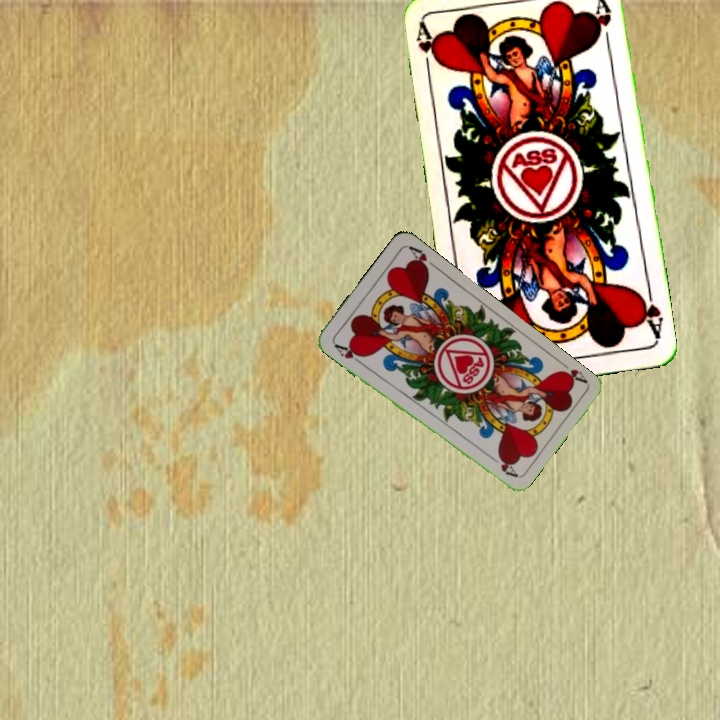HA: (411, 20, 442, 80), (634, 282, 665, 341), (554, 356, 590, 387), (330, 339, 367, 367)
